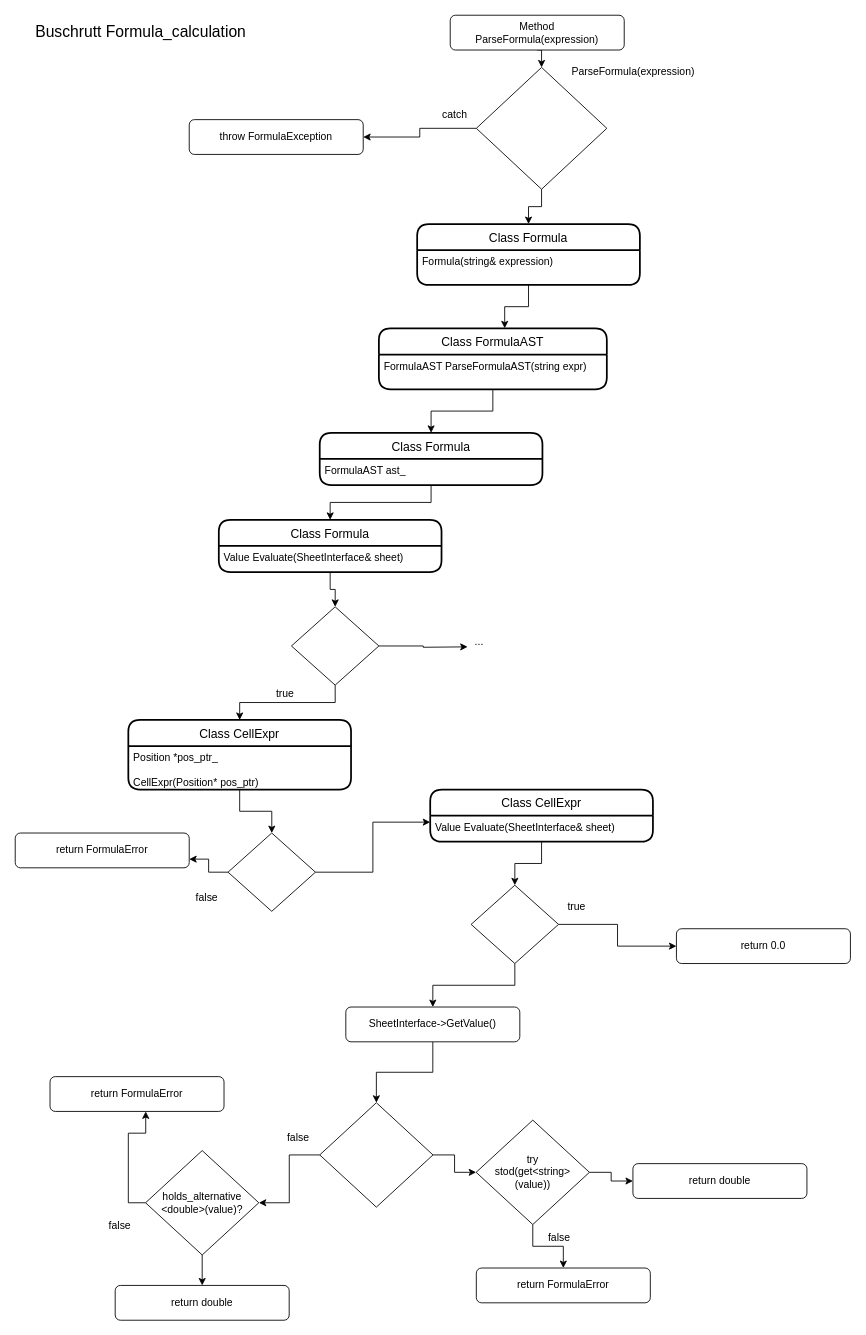
Some shapes in this 866 by 1335 pixel diagram are drawn without their labels. The shapes that lost their labels are listed below. From the top down, each one's centre as x and y in pixels, then its label:
(x=541, y=128): try{ Formula(expression) }catch(){}
(x=335, y=645): if expression?
(x=271, y=871): pos_ptr isValid?
(x=514, y=924): cell* == nullptr?
(x=376, y=1154): holds_alternative <string>(value)?
